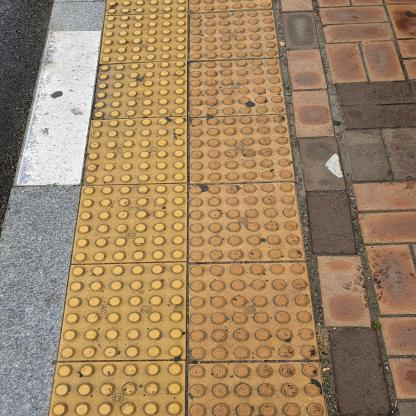podotacti: (40, 0, 332, 415)
